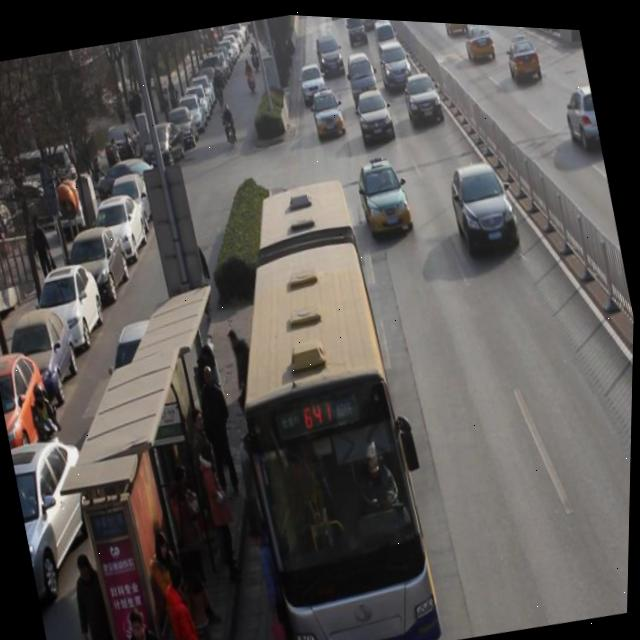car: (444, 149, 525, 258), (354, 148, 417, 239), (561, 75, 604, 150), (352, 81, 398, 147), (401, 65, 446, 124), (309, 79, 348, 139), (503, 25, 544, 81), (374, 35, 415, 90), (459, 19, 497, 61), (296, 57, 329, 105), (314, 29, 347, 73), (440, 18, 469, 32)
truck: (342, 46, 381, 102), (369, 15, 398, 50)
van: (197, 162, 453, 640)
